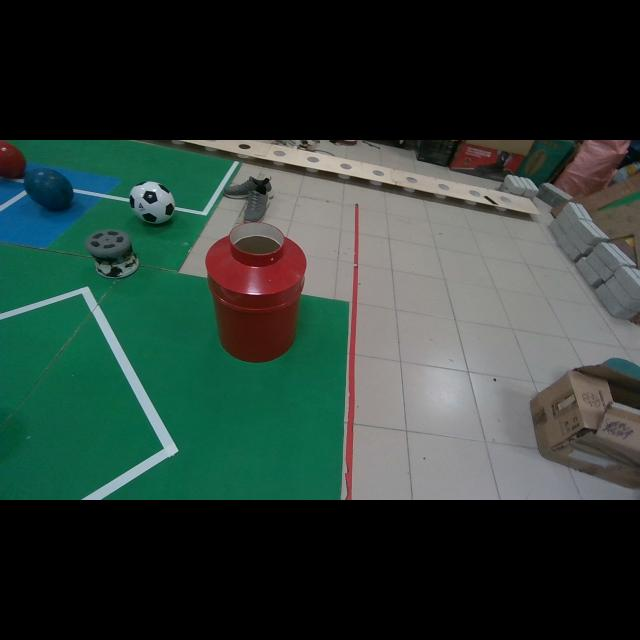B: (24, 169, 74, 211)
R: (0, 140, 25, 179)
